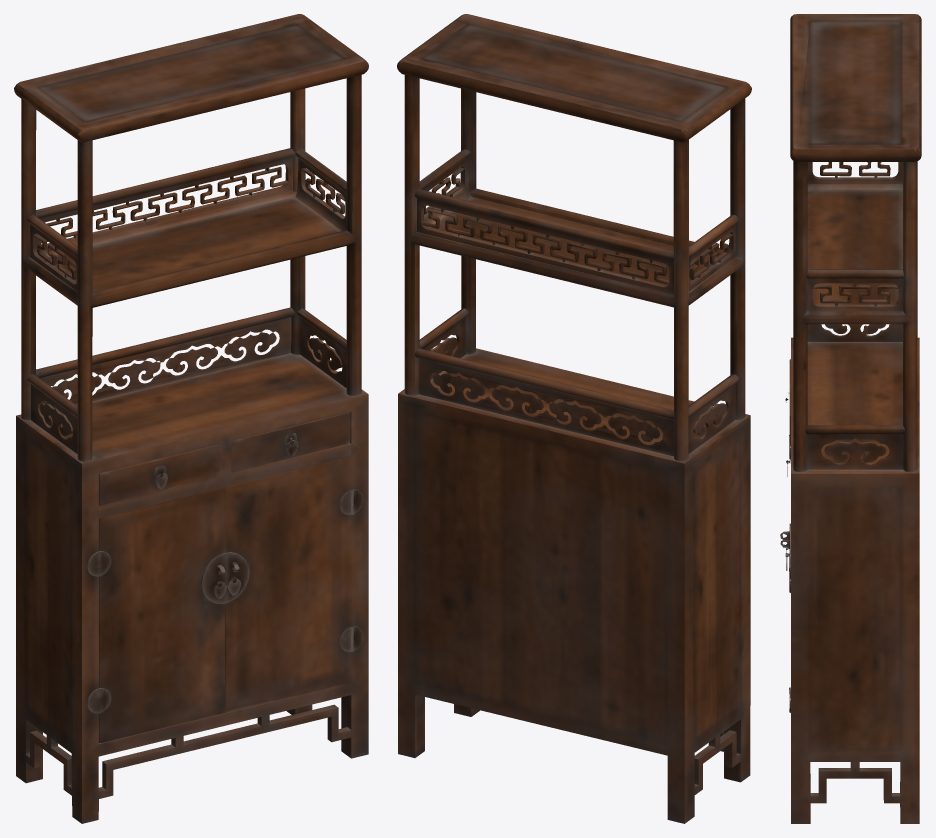
File: cabinet_cn.glb
3 views of the same model, side by side, from view 1: azimuth 30°, elevation 25°; view 2: azimuth 150°, elevation 25°; view 3: azimuth 270°, elevation 25° (orthographic). The views are drawn at different scales.
Visible parts, largest first — view 1: mesh; view 2: mesh; view 3: mesh.
Boxes of the visible parts, x1,y1,x2,y2 form: mesh: [14, 14, 368, 823]; mesh: [397, 14, 751, 823]; mesh: [780, 14, 921, 823].
Size of the model in its own units: 1.26 by 2.87 by 0.5452.
Materials: 1 (1 with a texture image).
